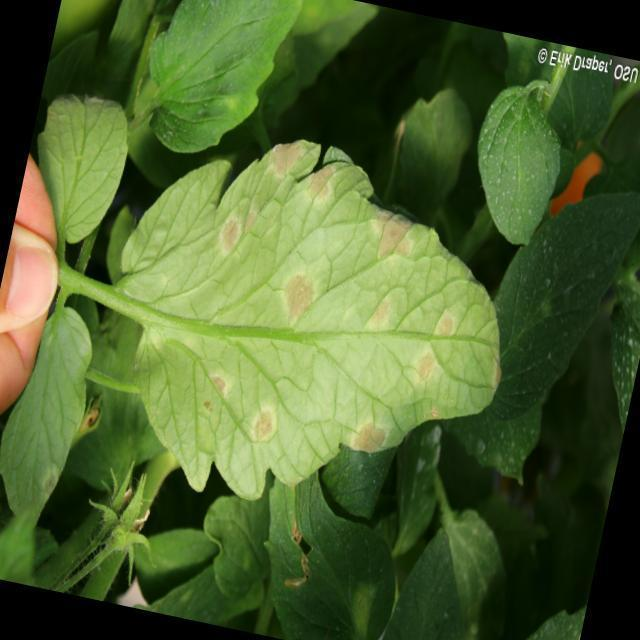Mosaic Virus: (122, 119, 487, 498)
